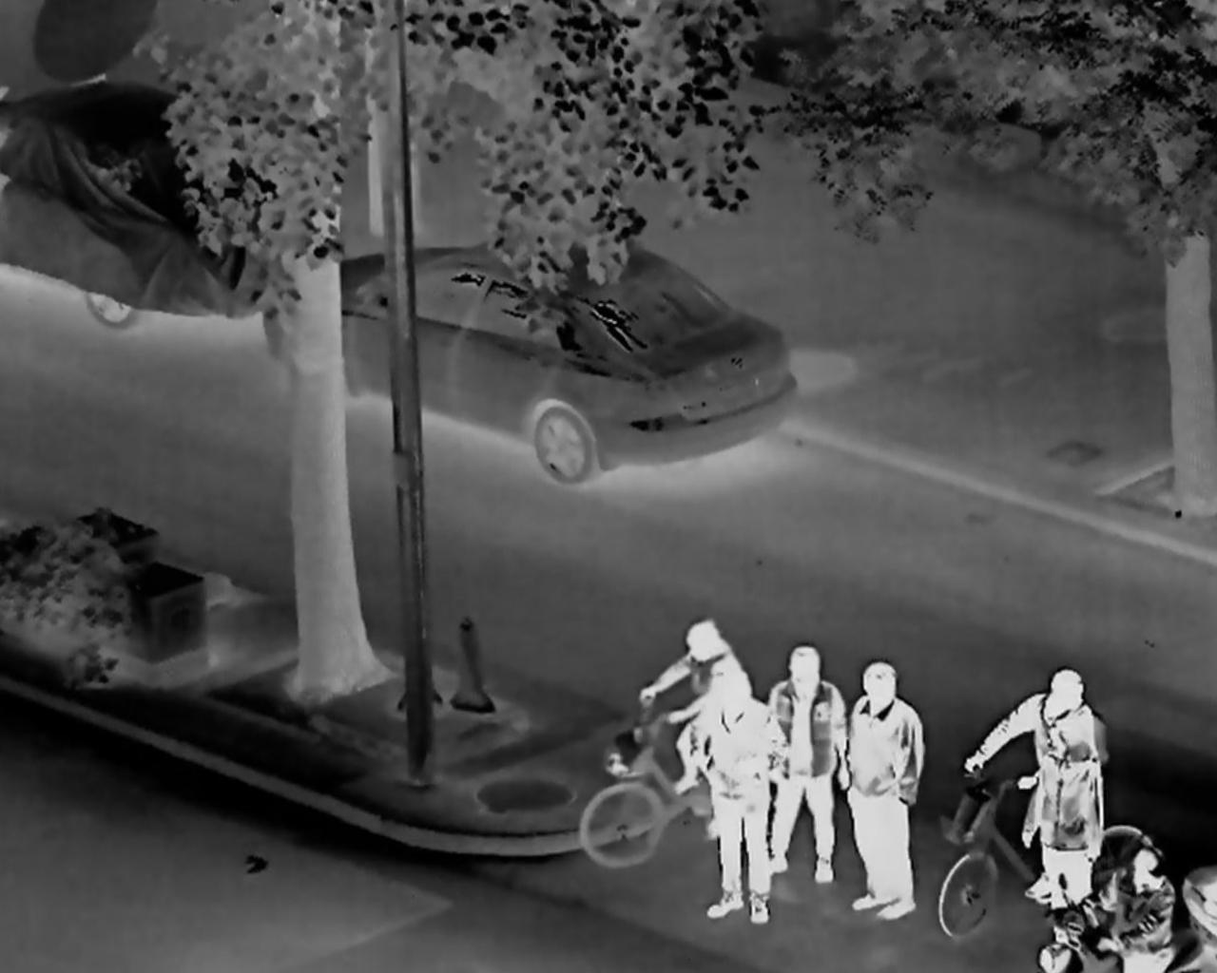person: (962, 668, 1104, 896), (640, 620, 752, 839), (688, 670, 782, 923), (764, 645, 843, 887), (846, 662, 919, 919), (1022, 733, 1102, 942), (1084, 849, 1176, 973)
